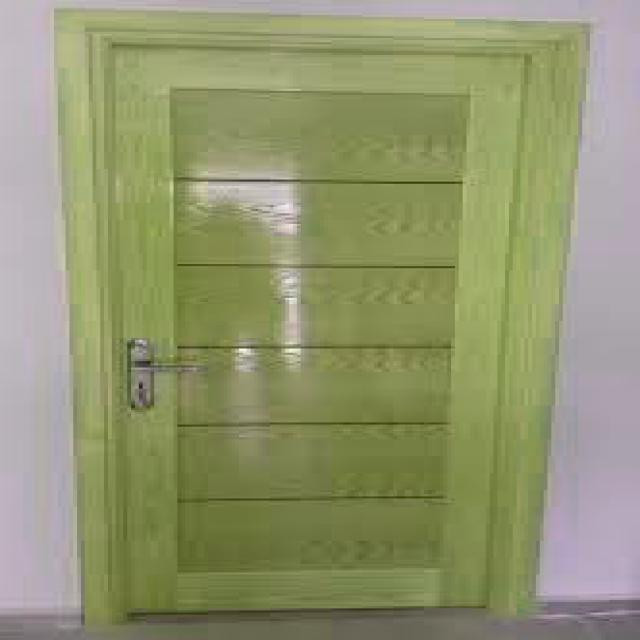door: (41, 1, 602, 638)
